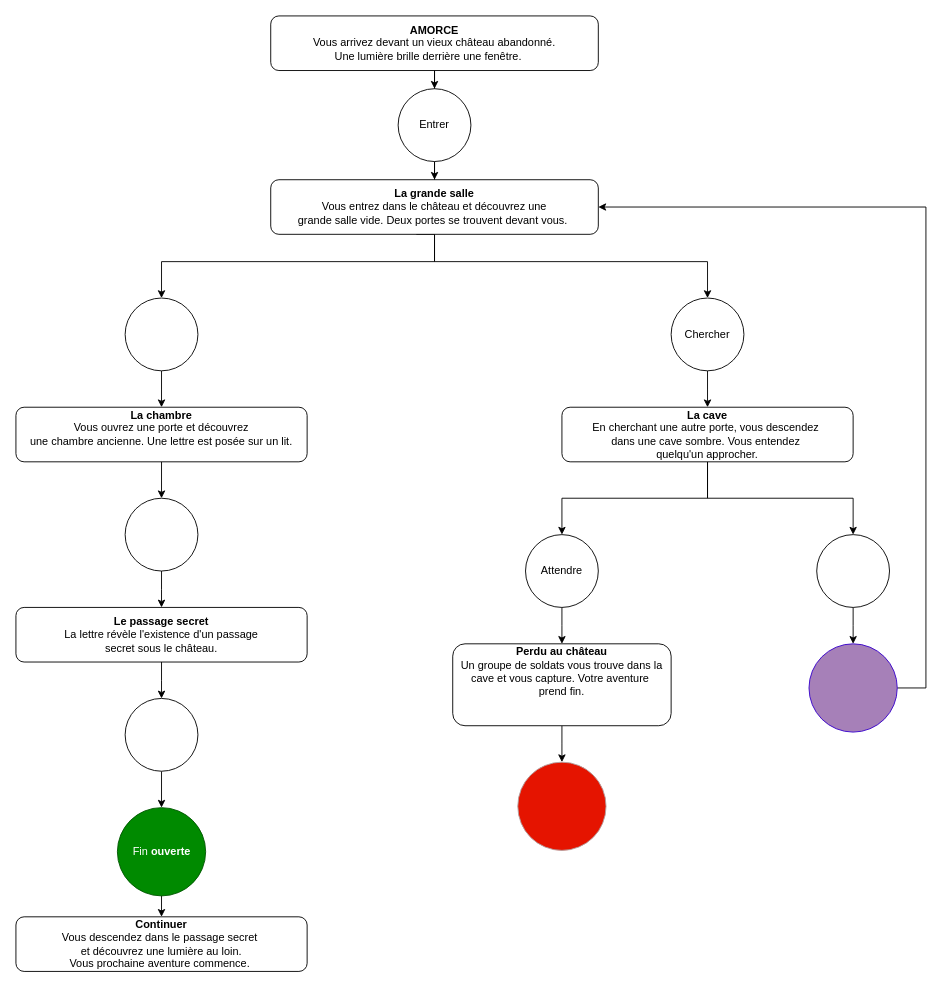
Image size: 949x987. Some labels were removed from this diagram. The shapes that lost their labels are listed below. From the top down, each one's centre as x and y in pixels, then its label:
At point (161, 334): "Ouvrir".
At point (161, 534): "Lire".
At point (853, 570): "Revenir".
At point (852, 687): "Retour à la grande salle".
At point (161, 734): "Descendre".
At point (561, 805): "Recommencer".
